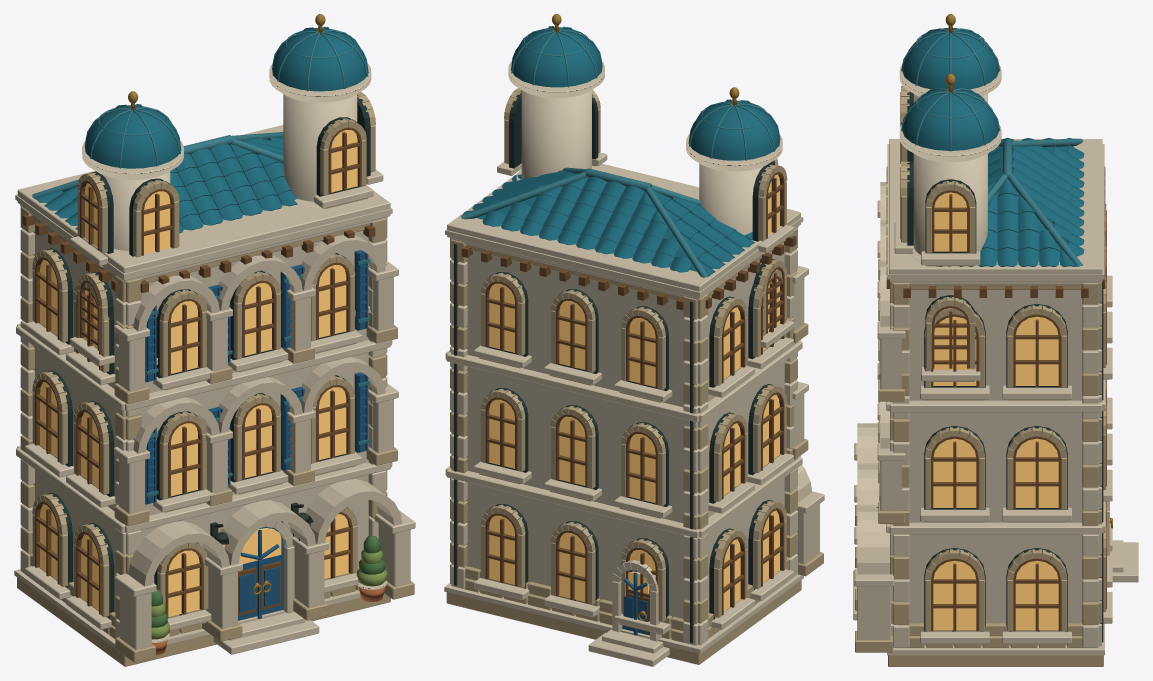
The picture shows the model from 3 angles, left to right: view 1: azimuth 30°, elevation 25°; view 2: azimuth 150°, elevation 25°; view 3: azimuth 270°, elevation 25°; orthographic projection. The views are drawn at different scales.
Visible parts, largest first — view 1: harbor_hotel_3_geometry; view 2: harbor_hotel_3_geometry; view 3: harbor_hotel_3_geometry.
Boxes of the visible parts, x1,y1,x2,y2 form: harbor_hotel_3_geometry: (14, 14, 415, 666); harbor_hotel_3_geometry: (444, 14, 824, 666); harbor_hotel_3_geometry: (853, 14, 1138, 666).
Bounding box in the file's own units: 0.9118 × 1.76 × 0.7937.
